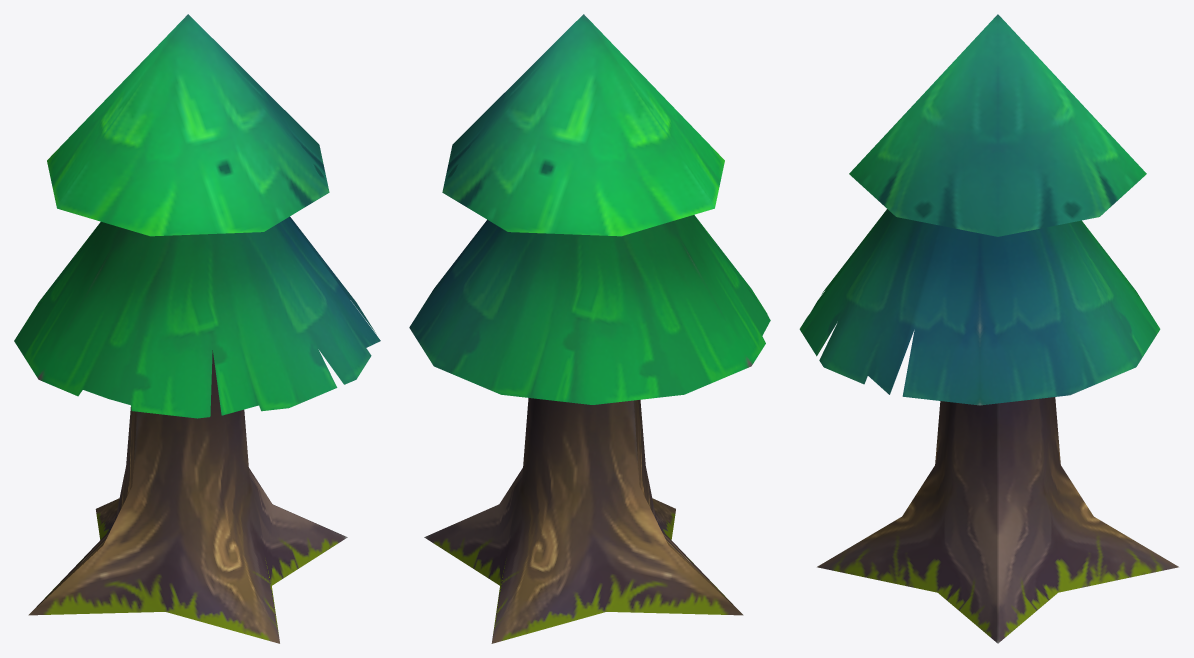
File: scenes_construction_tree01c.FBX
3 views of the same model, side by side, from view 1: azimuth 30°, elevation 25°; view 2: azimuth 150°, elevation 25°; view 3: azimuth 270°, elevation 25° (orthographic).
Parts seen in each view (by area): view 1: scenes_construction_tree01c; view 2: scenes_construction_tree01c; view 3: scenes_construction_tree01c.
Part boxes in pixels (x1,y1,x2,y2): scenes_construction_tree01c: (14, 14, 380, 643); scenes_construction_tree01c: (409, 14, 770, 643); scenes_construction_tree01c: (799, 14, 1178, 643).
Size of the model in its own units: 393 by 660 by 411.
